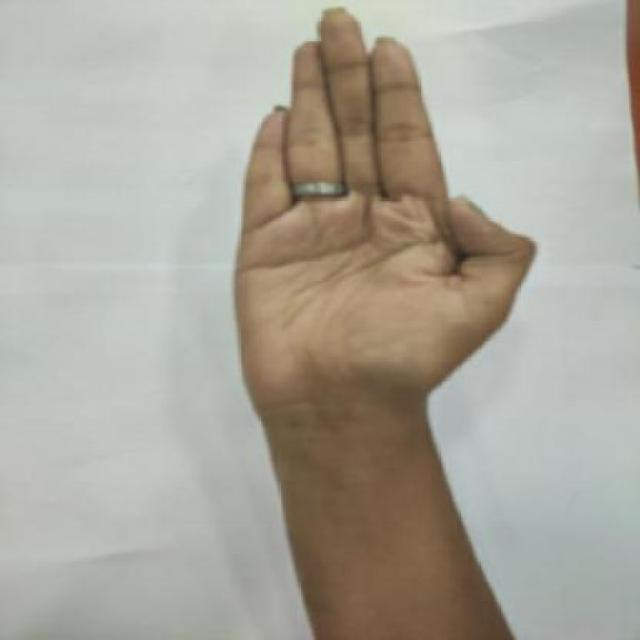without_gloves: (178, 4, 548, 510)
